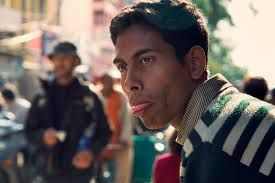no-mask: (104, 4, 207, 132)
